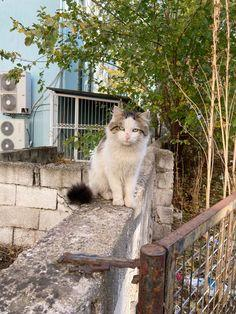kedo: (66, 104, 151, 207)
